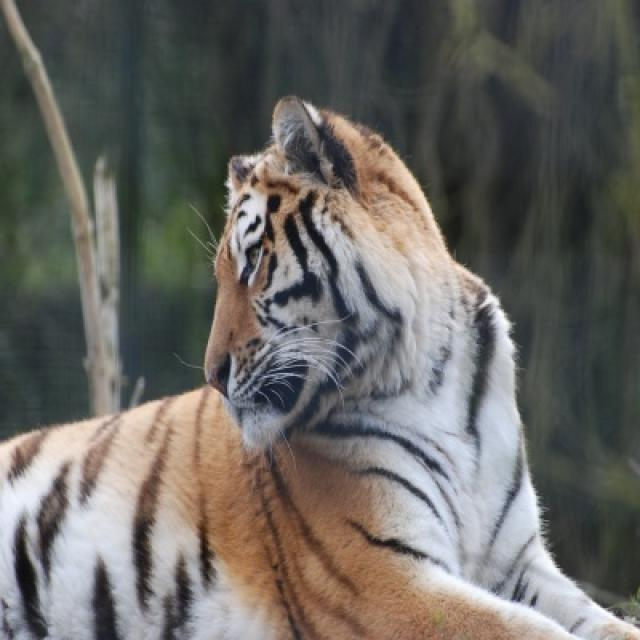Tiger: (0, 94, 638, 638)
